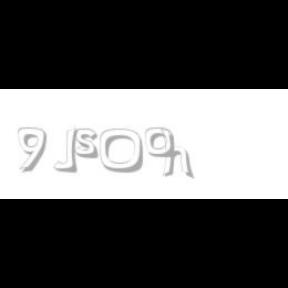9: (17, 128, 46, 172)
J: (53, 128, 78, 172)
O: (100, 128, 144, 174)
h: (161, 128, 196, 180)
o: (146, 128, 174, 158)
s: (75, 128, 103, 160)
